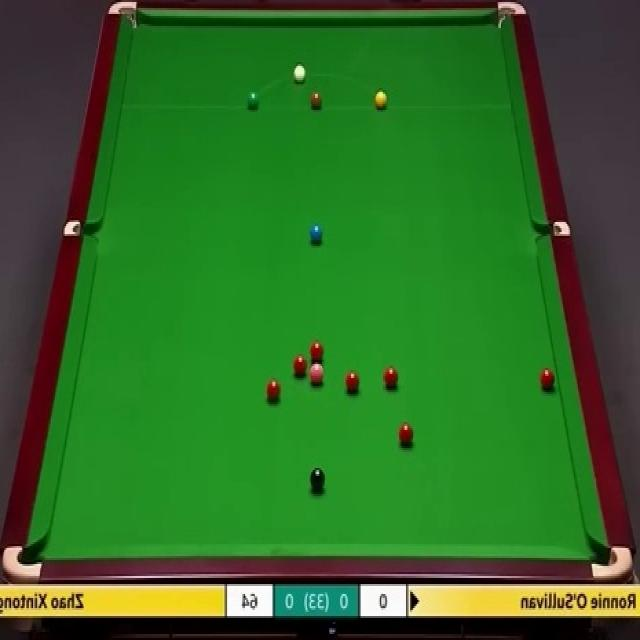black-ball: (310, 469, 324, 491)
blue-ball: (310, 225, 324, 242)
brown-ball: (309, 91, 323, 109)
green-ball: (245, 88, 260, 110)
pink-ball: (308, 363, 324, 386)
red-ball: (342, 371, 360, 393), (397, 422, 414, 445), (539, 370, 555, 391), (383, 366, 397, 387), (294, 354, 308, 374), (310, 342, 324, 361), (267, 380, 280, 400)
white-ball: (294, 62, 306, 83)
yellow-ball: (375, 90, 387, 110)
